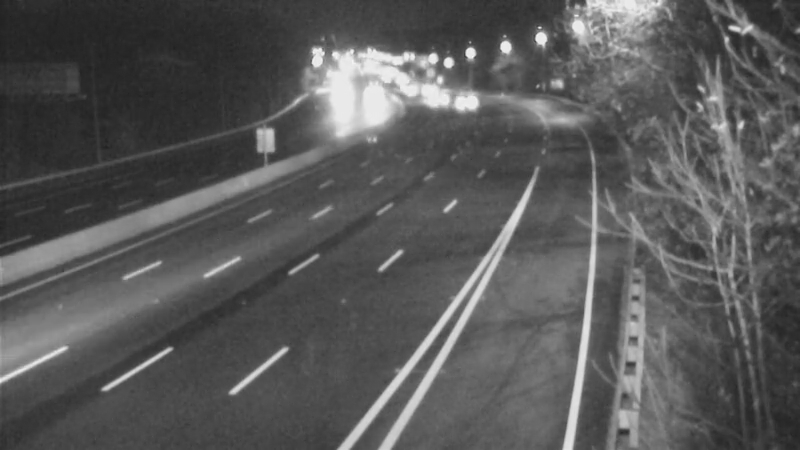vehicle: (411, 72, 461, 122), (435, 76, 485, 126), (341, 66, 391, 116)
